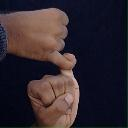hand: (1, 7, 76, 69), (26, 52, 79, 127)
